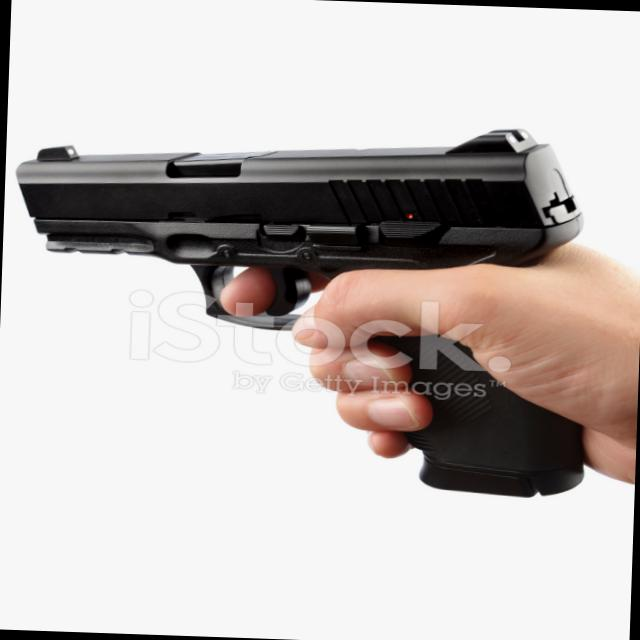handgun: (11, 95, 596, 503)
